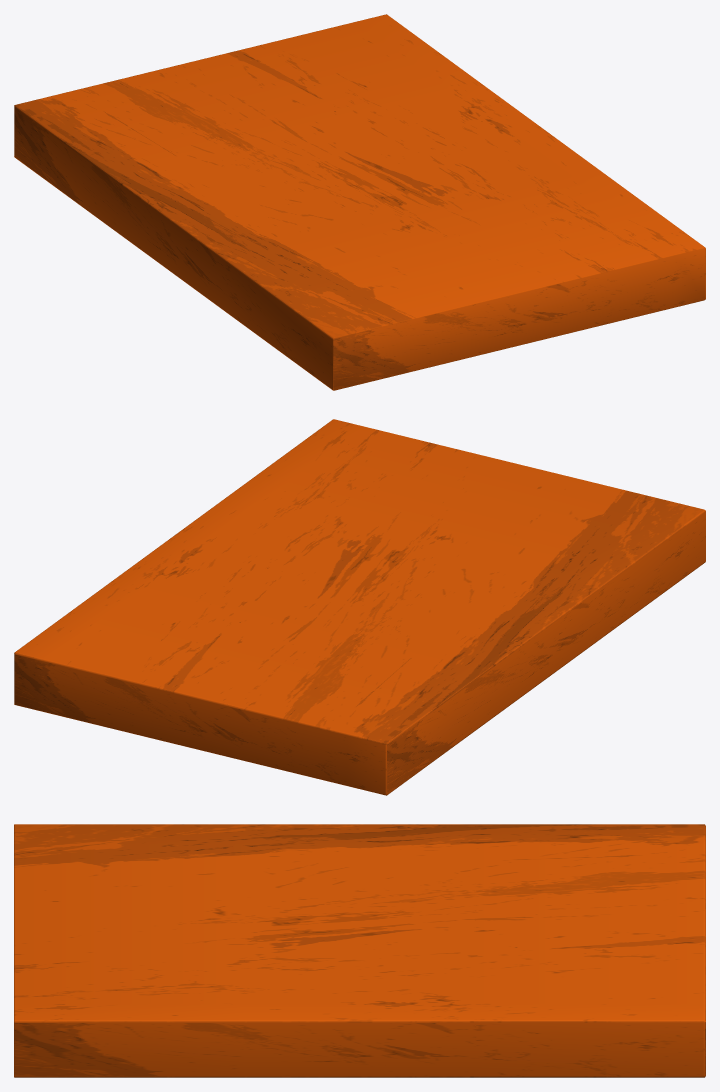
File: countertop.fbx
3 renders of one model, top to bottom at view 1: azimuth 30°, elevation 25°; view 2: azimuth 150°, elevation 25°; view 3: azimuth 270°, elevation 25°, orthographic. The views are drawn at different scales.
Visible parts, largest first — view 1: sink - counter001; view 2: sink - counter001; view 3: sink - counter001.
Part boxes in pixels (box(x1,y1,x2,y2)): sink - counter001: box(14, 14, 705, 390); sink - counter001: box(14, 419, 705, 795); sink - counter001: box(14, 824, 705, 1077).
Size of the model in its own units: 96.83 by 13.14 by 143.
